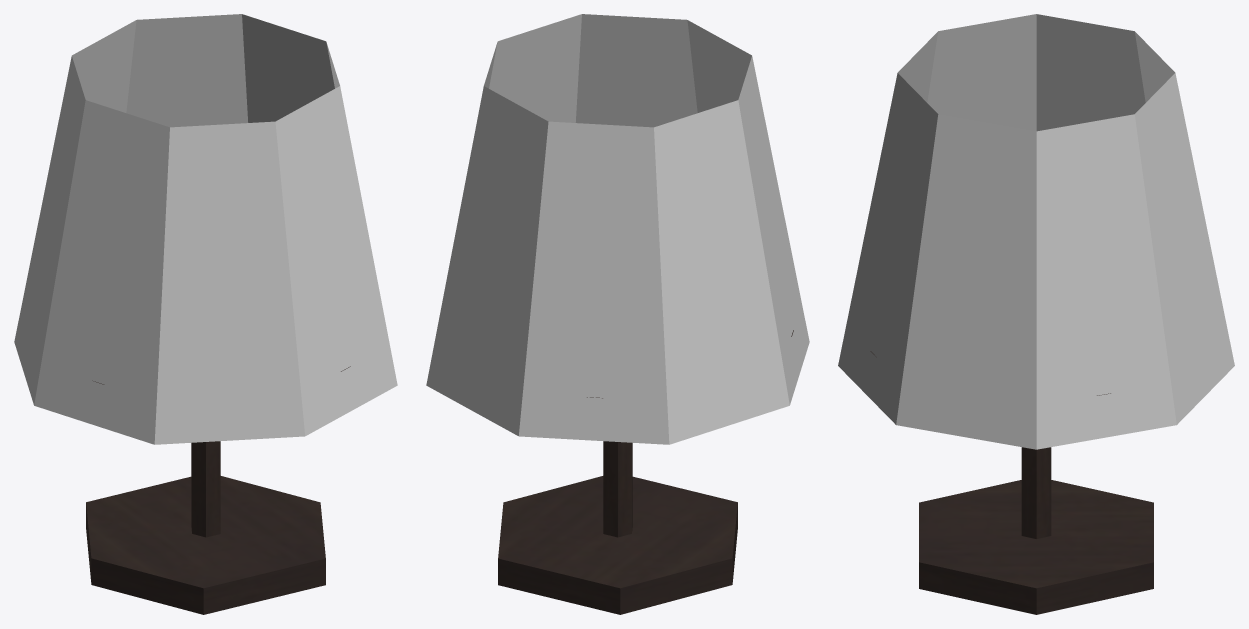
The model's file is Lamp.fbx.
3 views of the same model, side by side, from view 1: azimuth 30°, elevation 25°; view 2: azimuth 150°, elevation 25°; view 3: azimuth 270°, elevation 25° (orthographic).
Visible parts, largest first — view 1: Lamp; view 2: Lamp; view 3: Lamp.
Boxes of the visible parts, x1,y1,x2,y2 form: Lamp: (14,14,397,614); Lamp: (426,14,809,614); Lamp: (838,14,1234,614).
Size of the model in its own units: 27 by 36.5 by 27.
Materials: 2 (1 with a texture image).
